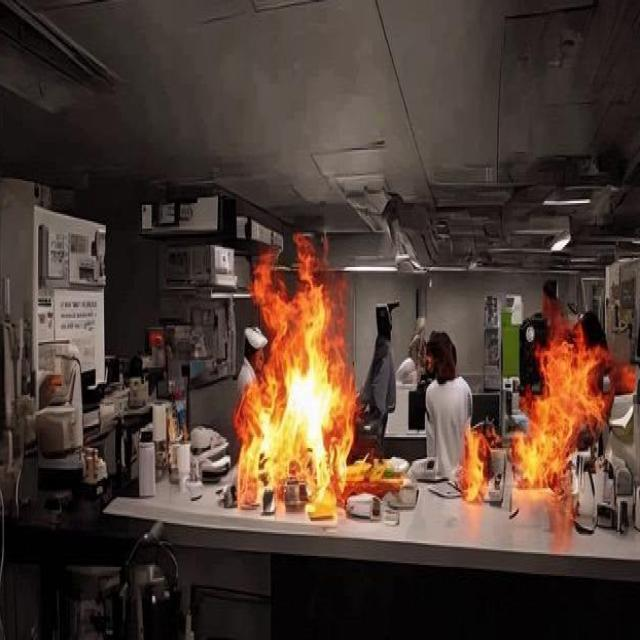smoke: (238, 236, 368, 514), (510, 300, 609, 510), (458, 415, 498, 512)
